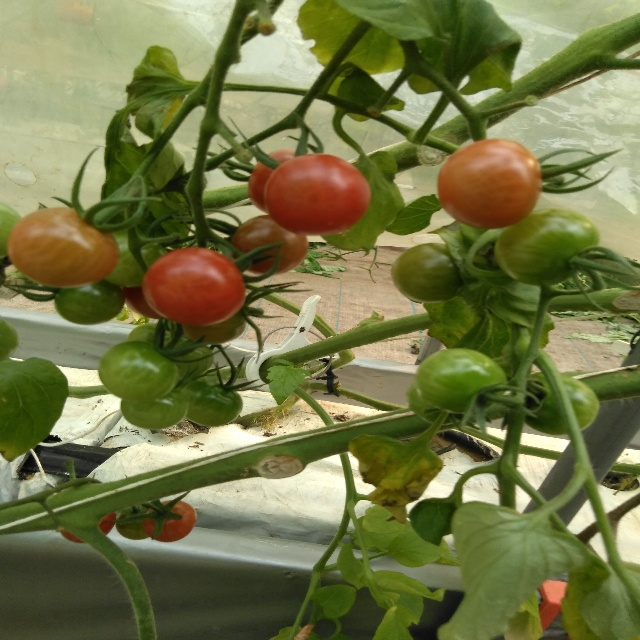l_fully_ripened: (264, 153, 371, 237), (142, 247, 247, 327), (247, 150, 315, 214), (141, 499, 198, 543)
l_green: (495, 208, 600, 286), (415, 347, 508, 415), (126, 323, 214, 389), (515, 371, 600, 435), (390, 243, 469, 303), (98, 341, 178, 400), (102, 231, 167, 288), (54, 279, 126, 325), (180, 377, 242, 427), (406, 379, 471, 426), (121, 389, 190, 429), (115, 502, 152, 540), (0, 202, 21, 260), (0, 316, 20, 363)
l_half_ripened: (436, 138, 542, 229), (7, 206, 119, 288), (229, 214, 307, 275), (180, 304, 247, 345), (117, 286, 168, 320)
